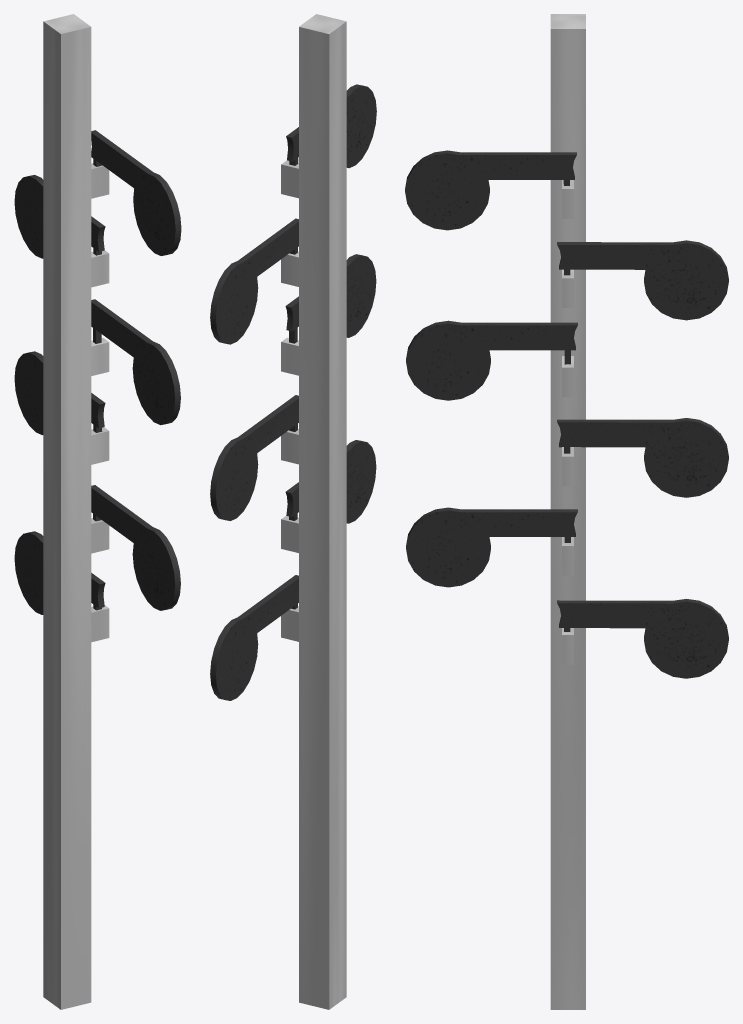
Rendered from Dueling Tree.fbx.
3 renders of one model, left to right at view 1: azimuth 30°, elevation 25°; view 2: azimuth 150°, elevation 25°; view 3: azimuth 270°, elevation 25°, orthographic.
Visible parts, largest first — view 1: Dueling_Poll, Target_3, Target_1, Target_5, Target_4, Target_2, Target_6; view 2: Dueling_Poll, Target_4, Target_2, Target_6, Target_3, Target_1, Target_5; view 3: Dueling_Poll, Target_3, Target_4, Target_6, Target_5, Target_2, Target_1.
Boxes of the visible parts, x1,y1,x2,y2 form: Dueling_Poll: (43,14,109,1009); Target_3: (91,299,180,425); Target_1: (91,130,181,255); Target_5: (91,485,180,610); Target_4: (14,351,105,435); Target_2: (14,175,105,258); Target_6: (14,531,105,614); Dueling_Poll: (281,14,346,1009); Target_4: (210,395,298,520); Target_2: (210,218,298,344); Target_6: (210,575,298,700); Target_3: (285,254,376,343); Target_1: (286,84,376,168); Target_5: (285,440,376,523); Dueling_Poll: (550,14,585,1009); Target_3: (406,320,577,400); Target_4: (557,418,728,497); Target_6: (557,599,728,678); Target_5: (406,507,577,587); Target_2: (557,240,728,320); Target_1: (405,150,576,230).
Bounding box in the file's own units: 0.6454 × 11.14 × 3.33.
